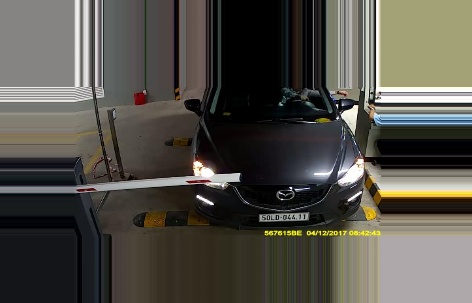plate: (259, 211, 312, 223)
